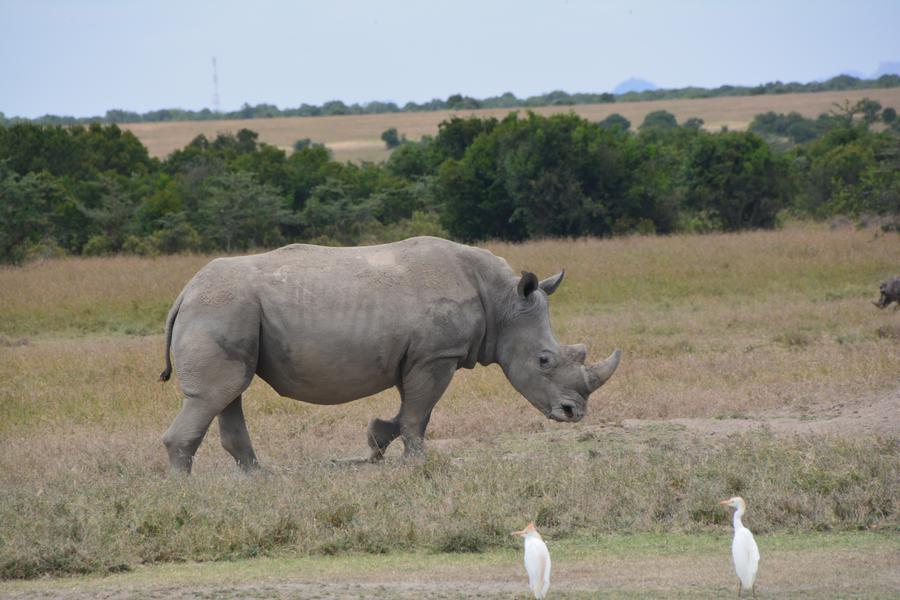rhino: (156, 229, 608, 456)
